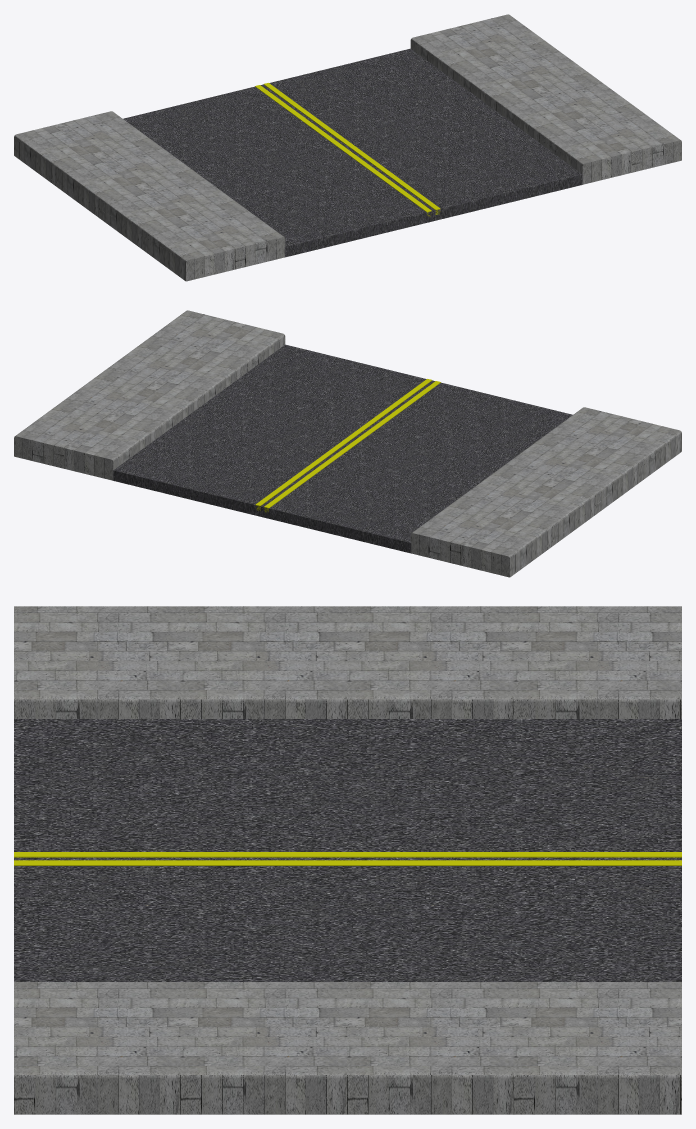
File: Yellow Line Street.fbx
3 views of the same model, one above another, from view 1: azimuth 30°, elevation 25°; view 2: azimuth 150°, elevation 25°; view 3: azimuth 270°, elevation 25° (orthographic). The views are drawn at different scales.
Parts seen in each view (by area): view 1: pCube1, pasted__pasted__pCube1, pasted__pCube1, pasted__pCube2, pCube2; view 2: pCube1, pasted__pasted__pCube1, pasted__pCube1, pasted__pCube2, pCube2; view 3: pCube1, pasted__pCube1, pasted__pasted__pCube1, pCube2, pasted__pCube2.
Part boxes in pixels (<box>): pCube1: <box>123,48,582,257</box>; pasted__pasted__pCube1: <box>14,111,285,281</box>; pasted__pCube1: <box>410,14,681,184</box>; pasted__pCube2: <box>263,83,440,214</box>; pCube2: <box>255,85,431,216</box>; pCube1: <box>113,344,572,553</box>; pasted__pasted__pCube1: <box>410,407,681,577</box>; pasted__pCube1: <box>14,310,285,480</box>; pasted__pCube2: <box>255,379,432,510</box>; pCube2: <box>264,381,440,512</box>; pCube1: <box>14,719,681,981</box>; pasted__pCube1: <box>14,982,681,1114</box>; pasted__pasted__pCube1: <box>14,606,681,718</box>; pCube2: <box>14,852,681,857</box>; pasted__pCube2: <box>14,860,681,865</box>.
Size of the model in its own units: 9.99 by 0.401 by 6.
5 materials, 3 textured.
